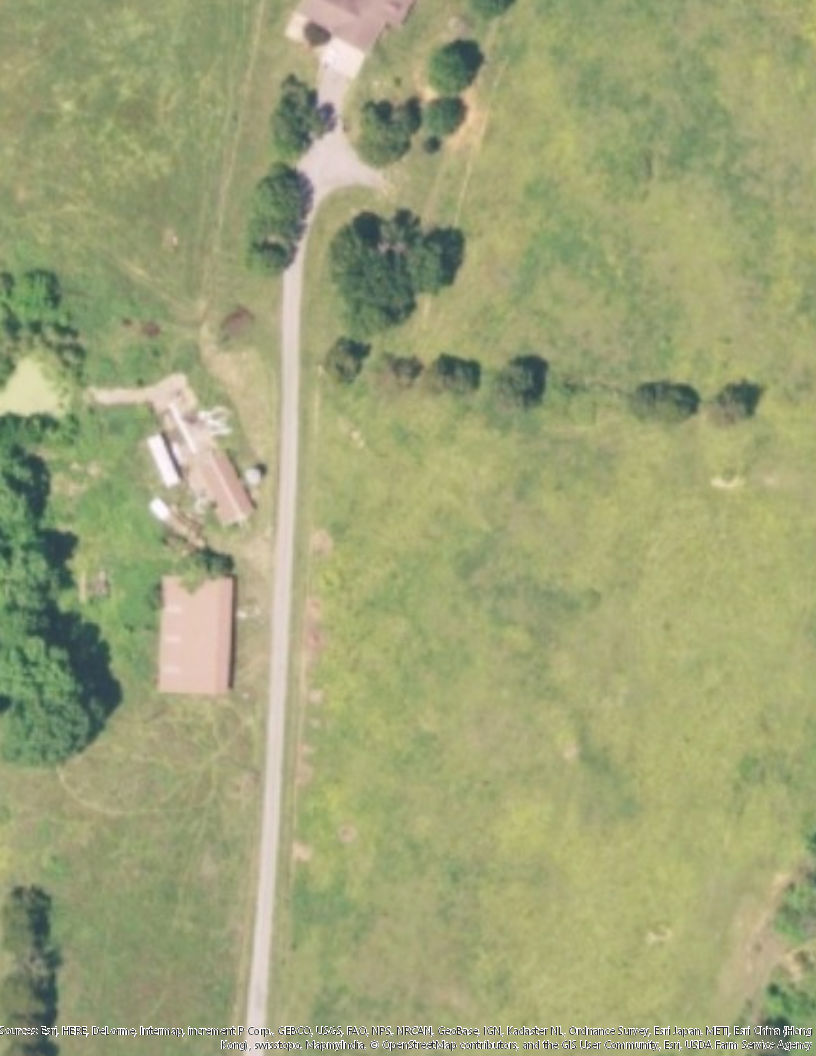cafo: (155, 372, 255, 543), (153, 568, 243, 702)
